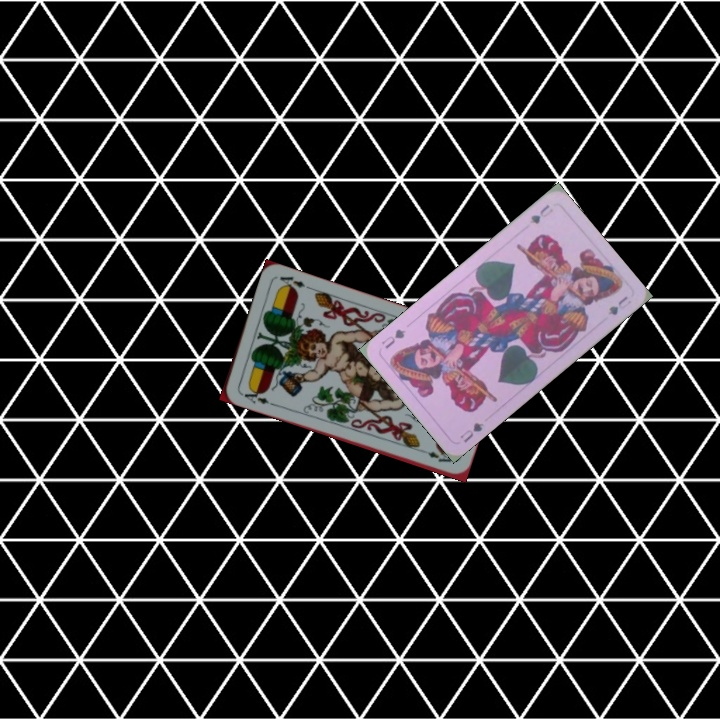EA: (236, 384, 276, 408)
GU: (456, 418, 486, 446), (526, 200, 556, 227)
